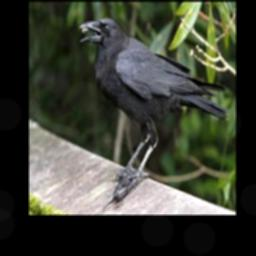Crow: (78, 17, 229, 190)
